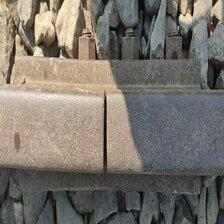railway-gap: (57, 80, 152, 185)
